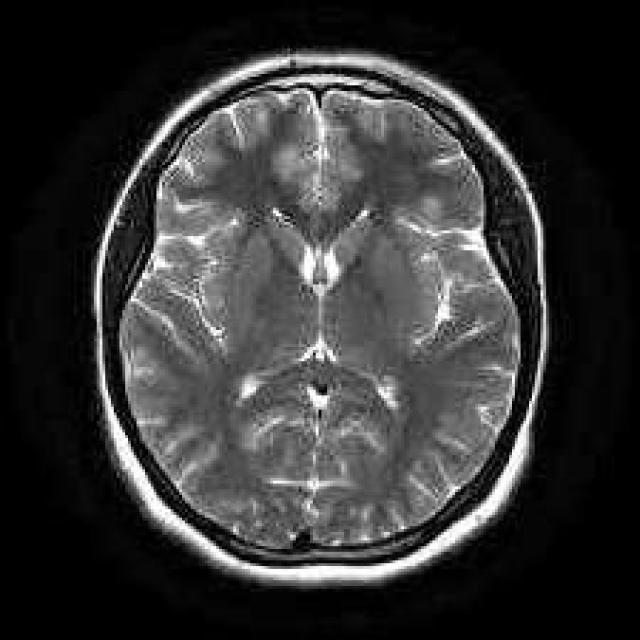notumor: (94, 54, 552, 594)
